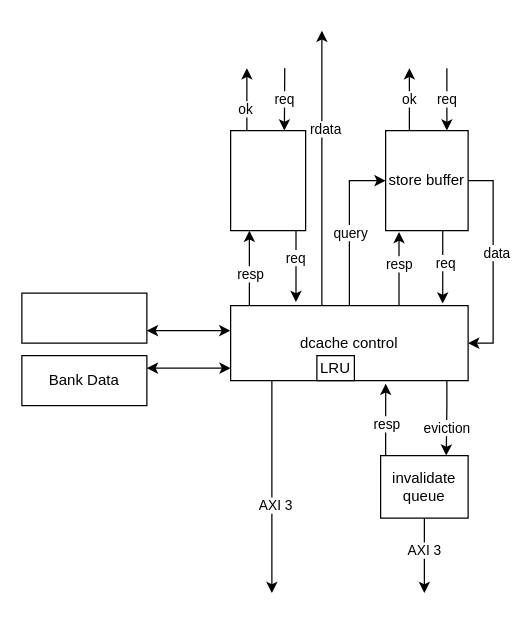
The diagram is 531 pixels wide and 625 high, and some of its shapes have lost their labels. Here are the shapes that lost their labels. From the top down, the centre of each, then its label:
At point 267,180: "read fifo".
At point 84,317: "TAGV".
